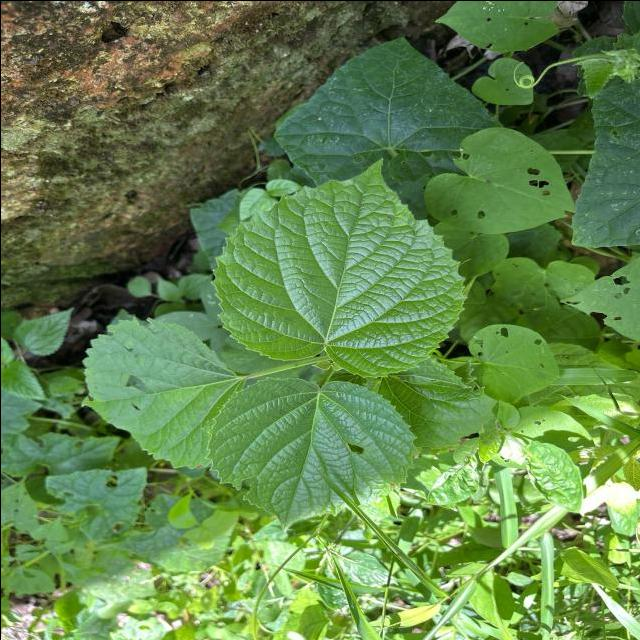Clerodendrum infortunatum: (210, 155, 470, 379), (202, 374, 420, 532)
